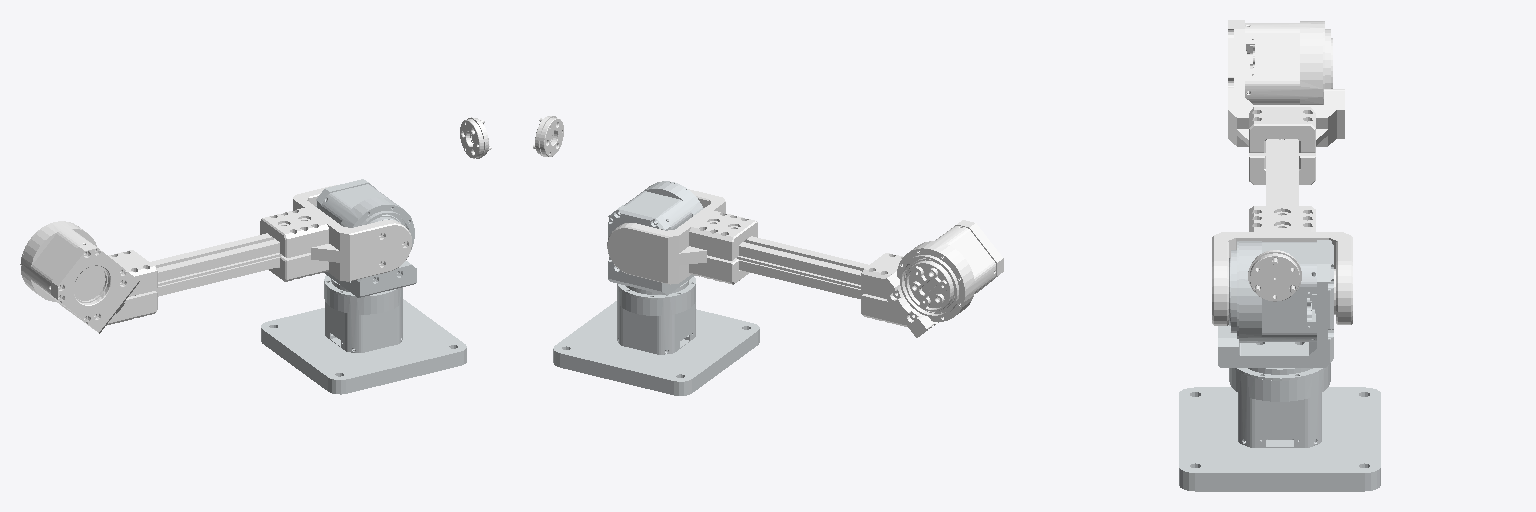
URDF robot description (Panthera_hightorque):
<?xml version="1.0" encoding="utf-8"?>
<!-- This URDF was automatically created by SolidWorks to URDF Exporter! Originally created by [author] ([email redacted]) 
     Commit Version: 1.6.0-4-g7f85cfe  Build Version: 1.6.7995.38578
     For more information, please see http://wiki.ros.org/sw_urdf_exporter -->
<robot
  name="Panthera_hightorque">
  <link
    name="base_link">
    <inertial>
      <origin
        xyz="1.13851438210271E-05 1.97750326448845E-05 -0.0922543547626578"
        rpy="0 0 0" />
      <mass
        value="1.50223075674128" />
      <inertia
        ixx="0.00165880797392824"
        ixy="3.94688534878552E-07"
        ixz="1.61741843521794E-07"
        iyy="0.00165790877076524"
        iyz="1.38341552816542E-07"
        izz="0.00326085108970316" />
    </inertial>
    <visual>
      <origin
        xyz="0 0 0"
        rpy="0 0 0" />
      <geometry>
        <mesh
          filename="package://Panthera_hightorque/meshes/base_link.STL" />
      </geometry>
      <material
        name="">
        <color
          rgba="0.898039215686275 0.917647058823529 0.929411764705882 1" />
      </material>
    </visual>
    <collision>
      <origin
        xyz="0 0 0"
        rpy="0 0 0" />
      <geometry>
        <mesh
          filename="package://Panthera_hightorque/meshes/base_link.STL" />
      </geometry>
    </collision>
  </link>
  <link
    name="link1">
    <inertial>
      <origin
        xyz="8.27605701317014E-05 -0.00615400683514963 -0.00522738686375784"
        rpy="0 0 0" />
      <mass
        value="0.42" />
      <inertia
        ixx="9.75348158882579E-05"
        ixy="-1.6173661707928E-07"
        ixz="3.94688231580596E-07"
        iyy="0.000108887103032186"
        iyz="-1.14376080907361E-05"
        izz="9.09667558200446E-05" />
    </inertial>
    <visual>
      <origin
        xyz="0 0 0"
        rpy="0 0 0" />
      <geometry>
        <mesh
          filename="package://Panthera_hightorque/meshes/link1.STL" />
      </geometry>
      <material
        name="">
        <color
          rgba="0.898039215686275 0.917647058823529 0.929411764705882 1" />
      </material>
    </visual>
    <collision>
      <origin
        xyz="0 0 0"
        rpy="0 0 0" />
      <geometry>
        <mesh
          filename="package://Panthera_hightorque/meshes/link1.STL" />
      </geometry>
    </collision>
  </link>
  <joint
    name="joint1"
    type="revolute">
    <origin
      xyz="0 0 0"
      rpy="0 0 0" />
    <parent
      link="base_link" />
    <child
      link="link1" />
    <axis
      xyz="0 0 1" />
    <limit
      lower="-3.14"
      upper="3.14"
      effort="10"
      velocity="1" />
  </joint>
  <link
    name="link2">
    <inertial>
      <origin
        xyz="0.1200000 0.00628024890175835 -0.00472453918304733"
        rpy="0 0 0" />
      <mass
        value="0.623" />
      <inertia
        ixx="0.000201201482569508"
        ixy="-4.60301328753442E-06"
        ixz="-1.65975668638592E-05"
        iyy="0.000350653967228759"
        iyz="8.50698540954887E-06"
        izz="0.000310687302621721" />
    </inertial>
    <visual>
      <origin
        xyz="0 0 0"
        rpy="0 0 0" />
      <geometry>
        <mesh
          filename="package://Panthera_hightorque/meshes/link2.STL" />
      </geometry>
      <material
        name="">
        <color
          rgba="1 1 1 1" />
      </material>
    </visual>
    <collision>
      <origin
        xyz="0 0 0"
        rpy="0 0 0" />
      <geometry>
        <mesh
          filename="package://Panthera_hightorque/meshes/link2.STL" />
      </geometry>
    </collision>
  </link>
  <joint
    name="joint2"
    type="revolute">
    <origin
      xyz="0 0 0"
      rpy="-1.5708 -0.095765 3.1416" />
    <parent
      link="link1" />
    <child
      link="link2" />
    <axis
      xyz="0 0 1" />
    <limit
      lower="-3.14"
      upper="3.14"
      effort="10"
      velocity="1" />
  </joint>
  <link
    name="link3">
    <inertial>
      <origin
        xyz="0.09500000 -0.0109678019500067 -0.000861515625674432"
        rpy="0 0 0" />
      <mass
        value="0.44" />
      <inertia
        ixx="0.00014326808596337"
        ixy="5.80065860730017E-06"
        ixz="4.96834568582312E-06"
        iyy="0.000258031847332499"
        iyz="1.48573925605987E-06"
        izz="0.000201105290524551" />
    </inertial>
    <visual>
      <origin
        xyz="0 0 0"
        rpy="0 0 0" />
      <geometry>
        <mesh
          filename="package://Panthera_hightorque/meshes/link3.STL" />
      </geometry>
      <material
        name="">
        <color
          rgba="1 1 1 1" />
      </material>
    </visual>
    <collision>
      <origin
        xyz="0 0 0"
        rpy="0 0 0" />
      <geometry>
        <mesh
          filename="package://Panthera_hightorque/meshes/link3.STL" />
      </geometry>
    </collision>
  </link>
  <joint
    name="joint3"
    type="revolute">
    <origin
      xyz="0.25672 0 0"
      rpy="-3.1416 0 -2.9234" />
    <parent
      link="link2" />
    <child
      link="link3" />
    <axis
      xyz="0 0 1" />
    <limit
      lower="-3.14"
      upper="3.14"
      effort="10"
      velocity="1" />
  </joint>
  <link
    name="link4">
    <inertial>
      <origin
        xyz="0.035000 -0.0320653530477424 -0.00368219564831916"
        rpy="0 0 0" />
      <mass
        value="0.286" />
      <inertia
        ixx="6.75172330804967E-05"
        ixy="2.34408641255672E-05"
        ixz="-1.97683657290439E-06"
        iyy="9.14281582617467E-05"
        iyz="8.18132936827568E-07"
        izz="7.87467889947307E-05" />
    </inertial>
    <visual>
      <origin
        xyz="0 0 0"
        rpy="0 0 0" />
      <geometry>
        <mesh
          filename="package://Panthera_hightorque/meshes/link4.STL" />
      </geometry>
      <material
        name="">
        <color
          rgba="1 1 1 1" />
      </material>
    </visual>
    <collision>
      <origin
        xyz="0 0 0"
        rpy="0 0 0" />
      <geometry>
        <mesh
          filename="package://Panthera_hightorque/meshes/link4.STL" />
      </geometry>
    </collision>
  </link>
  <joint
    name="joint4"
    type="revolute">
    <origin
      xyz="0.24924 0 0"
      rpy="0 0 0.12241" />
    <parent
      link="link3" />
    <child
      link="link4" />
    <axis
      xyz="0 0 1" />
    <limit
      lower="-3.14"
      upper="3.14"
      effort="10"
      velocity="1" />
  </joint>
  <link
    name="link5">
    <inertial>
      <origin
        xyz="0.00600000 5.60547752509089E-05 -0.0093270848079311"
        rpy="0 0 0" />
      <mass
        value="0.24" />
      <inertia
        ixx="2.02943040503E-05"
        ixy="-9.21502307014673E-11"
        ixz="-3.34266669773665E-06"
        iyy="1.77107611523045E-05"
        iyz="-8.23841685469807E-08"
        izz="1.42872397925188E-05" />
    </inertial>
    <visual>
      <origin
        xyz="0 0 0"
        rpy="0 0 0" />
      <geometry>
        <mesh
          filename="package://Panthera_hightorque/meshes/link5.STL" />
      </geometry>
      <material
        name="">
        <color
          rgba="1 1 1 1" />
      </material>
    </visual>
    <collision>
      <origin
        xyz="0 0 0"
        rpy="0 0 0" />
      <geometry>
        <mesh
          filename="package://Panthera_hightorque/meshes/link5.STL" />
      </geometry>
    </collision>
  </link>
  <joint
    name="joint5"
    type="revolute">
    <origin
      xyz="0.08025 0 -0.0029"
      rpy="-1.5708 0 0" />
    <parent
      link="link4" />
    <child
      link="link5" />
    <axis
      xyz="0 0 1" />
    <limit
      lower="-3.14"
      upper="3.14"
      effort="10"
      velocity="1" />
  </joint>
  <link
    name="link6">
    <inertial>
      <origin
        xyz="0 -5.5511E-17 0.023603"
        rpy="0 0 0" />
      <mass
        value="0.001" />
      <inertia
        ixx="3.4664E-07"
        ixy="4.3908E-23"
        ixz="-1.5825E-23"
        iyy="3.4664E-07"
        iyz="-5.3669E-22"
        izz="6.3173E-07" />
    </inertial>
    <visual>
      <origin
        xyz="0 0 0"
        rpy="0 0 0" />
      <geometry>
        <mesh
          filename="package://Panthera_hightorque/meshes/link6.STL" />
      </geometry>
      <material
        name="">
        <color
          rgba="1 1 1 1" />
      </material>
    </visual>
    <collision>
      <origin
        xyz="0 0 0"
        rpy="0 0 0" />
      <geometry>
        <mesh
          filename="package://Panthera_hightorque/meshes/link6.STL" />
      </geometry>
    </collision>
  </link>
  <joint
    name="joint6"
    type="revolute">
    <origin
      xyz="0 0 0"
      rpy="-1.5708 0 -1.5708" />
    <parent
      link="link5" />
    <child
      link="link6" />
    <axis
      xyz="0 0 1" />
    <limit
      lower="-3.14"
      upper="3.14"
      effort="10"
      velocity="1" />
  </joint>
</robot>

--- What the picture shows (computed from the rendered views, not written in the file) ---
Views: 3 orthographic renders of the robot side by side, from view 1: azimuth 30°, elevation 25°; view 2: azimuth 150°, elevation 25°; view 3: azimuth 270°, elevation 25°.
Model Panthera_hightorque with 7 links and 6 joints (6 revolute), rooted at base_link, posed all joints at 0.
Visible links, largest first — view 1: link2, base_link, link1, link6; view 2: link2, base_link, link1, link6; view 3: base_link, link2, link1, link6.
Boxes of the visible links, x1=… form: link2: x1=20, y1=185, x2=411, y2=333; base_link: x1=261, y1=275, x2=466, y2=394; link1: x1=316, y1=179, x2=416, y2=297; link6: x1=460, y1=117, x2=491, y2=158; link2: x1=607, y1=189, x2=1003, y2=337; base_link: x1=553, y1=277, x2=759, y2=395; link1: x1=608, y1=181, x2=703, y2=295; link6: x1=533, y1=116, x2=563, y2=156; base_link: x1=1179, y1=363, x2=1380, y2=491; link2: x1=1212, y1=20, x2=1352, y2=325; link1: x1=1218, y1=240, x2=1333, y2=367; link6: x1=1248, y1=250, x2=1301, y2=301.
Bounding box of the posed robot: 0.3895 × 0.12 × 0.1731 m (x, y, z).
Meshes: 7 distinct files referenced, 4 mesh visuals loaded (4 binary STL); not drawn: 3 (reference not matched to a file when rendering).